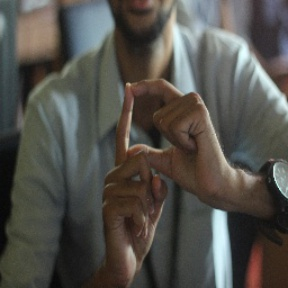D: (106, 74, 212, 192)
